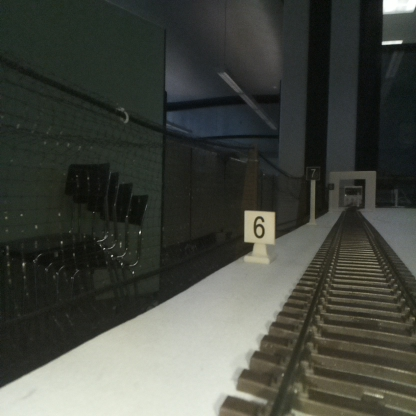black-info-7: (306, 166, 320, 224)
white-stop-6: (244, 211, 274, 261)
